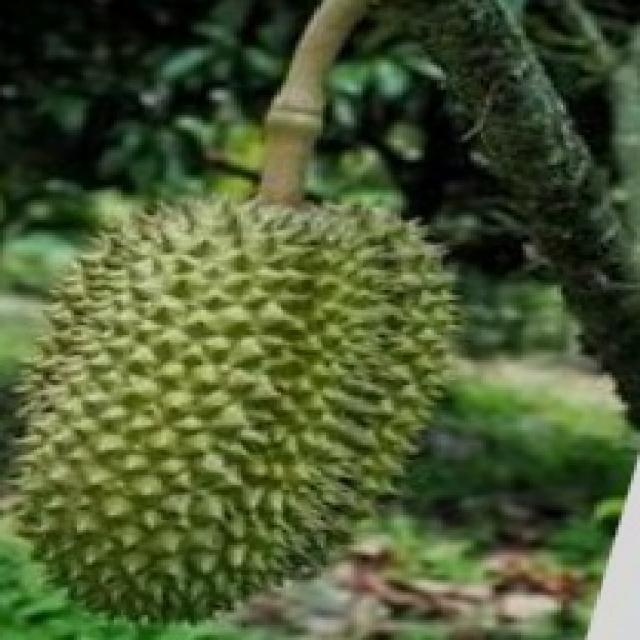fruit: (0, 133, 360, 565)
